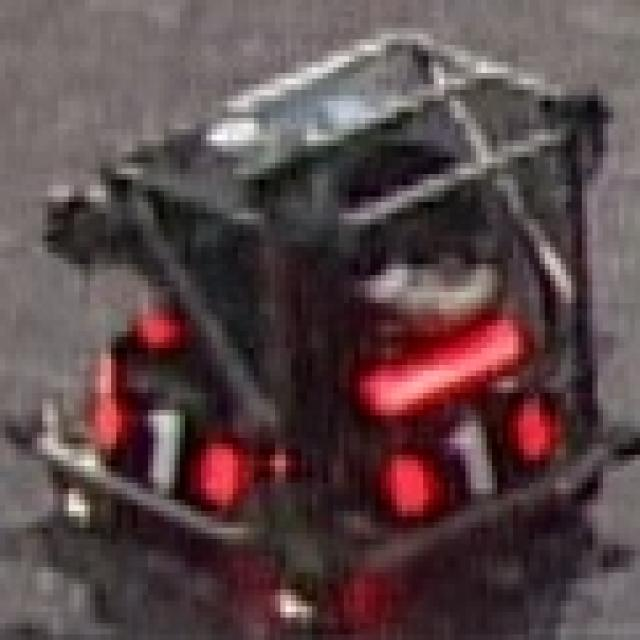R1: (386, 404, 545, 517), (90, 393, 249, 500)
